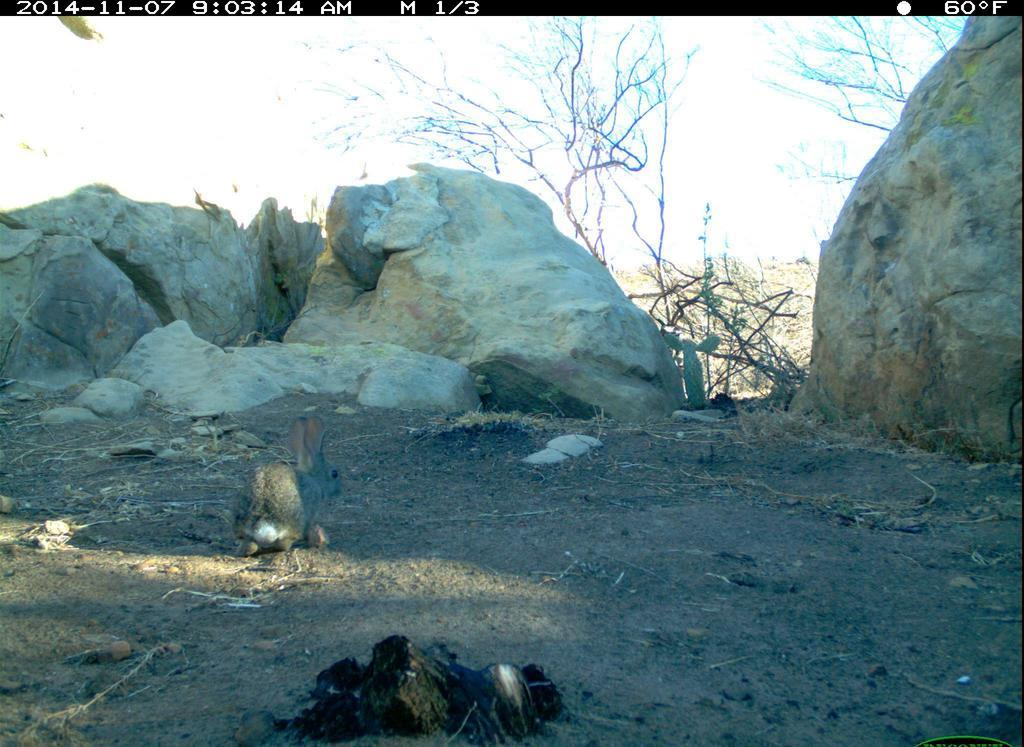rabbit: (222, 402, 354, 583)
